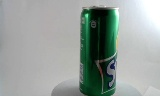sprite: (73, 5, 111, 95)
